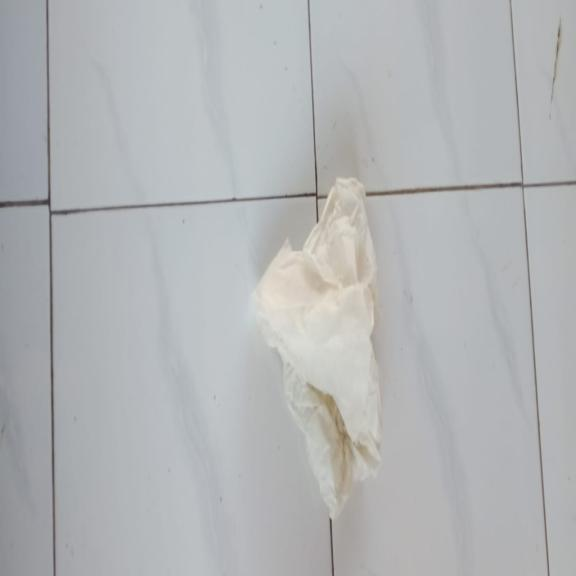Plastik: (250, 176, 385, 522)
